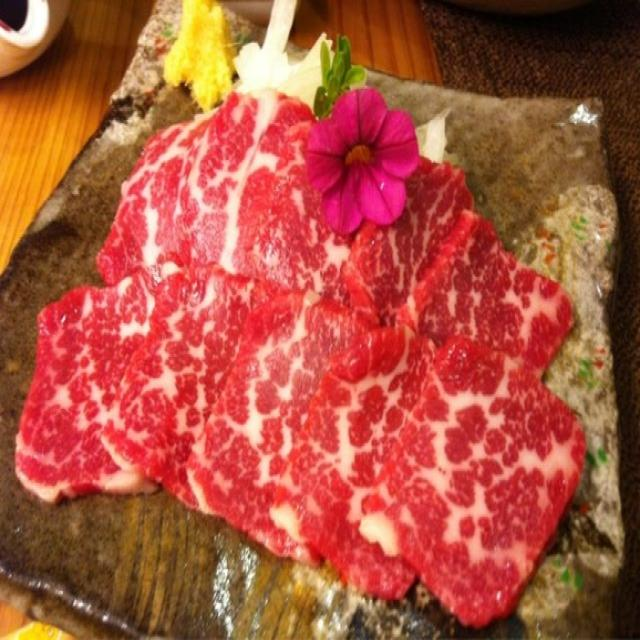刺身生食: (26, 77, 594, 624)
